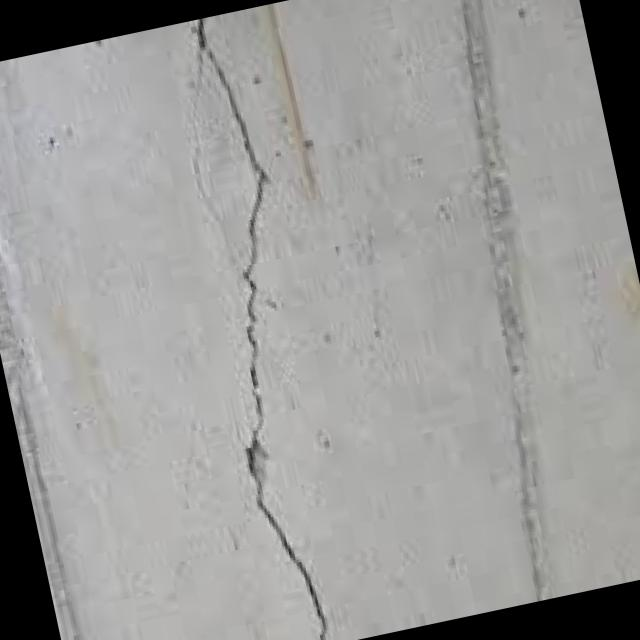crack: (155, 10, 369, 640)
